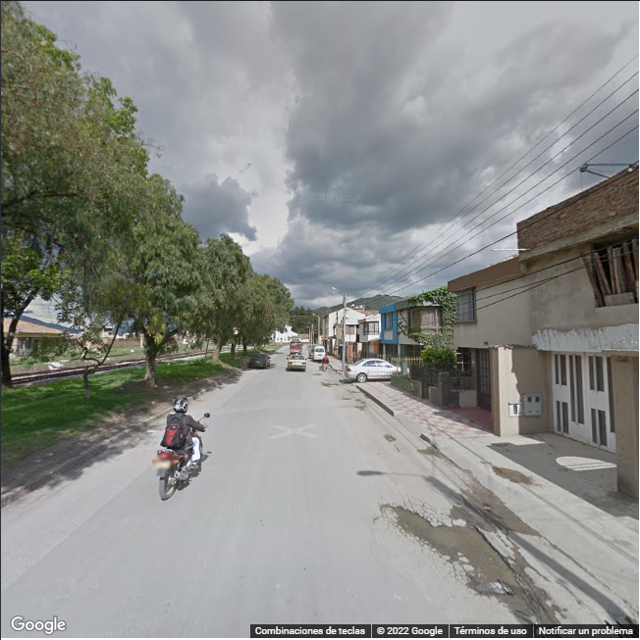D40: (393, 508, 506, 593)
